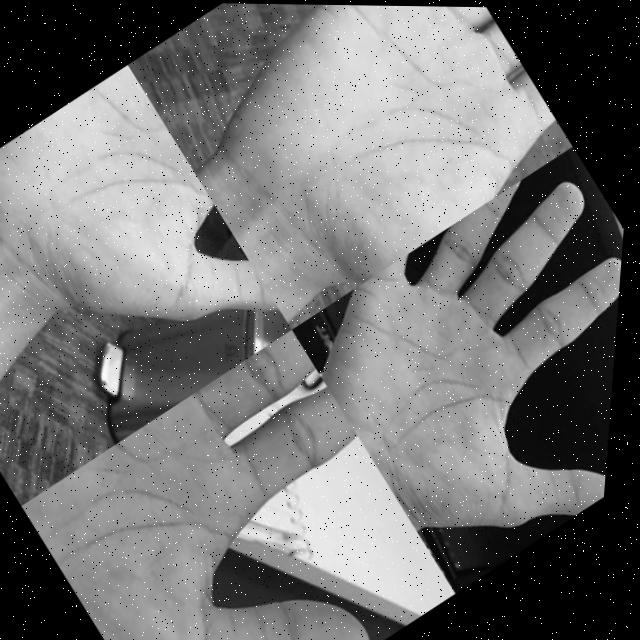hand: (281, 146, 632, 592), (21, 324, 480, 640), (139, 2, 582, 322), (0, 61, 311, 464)
